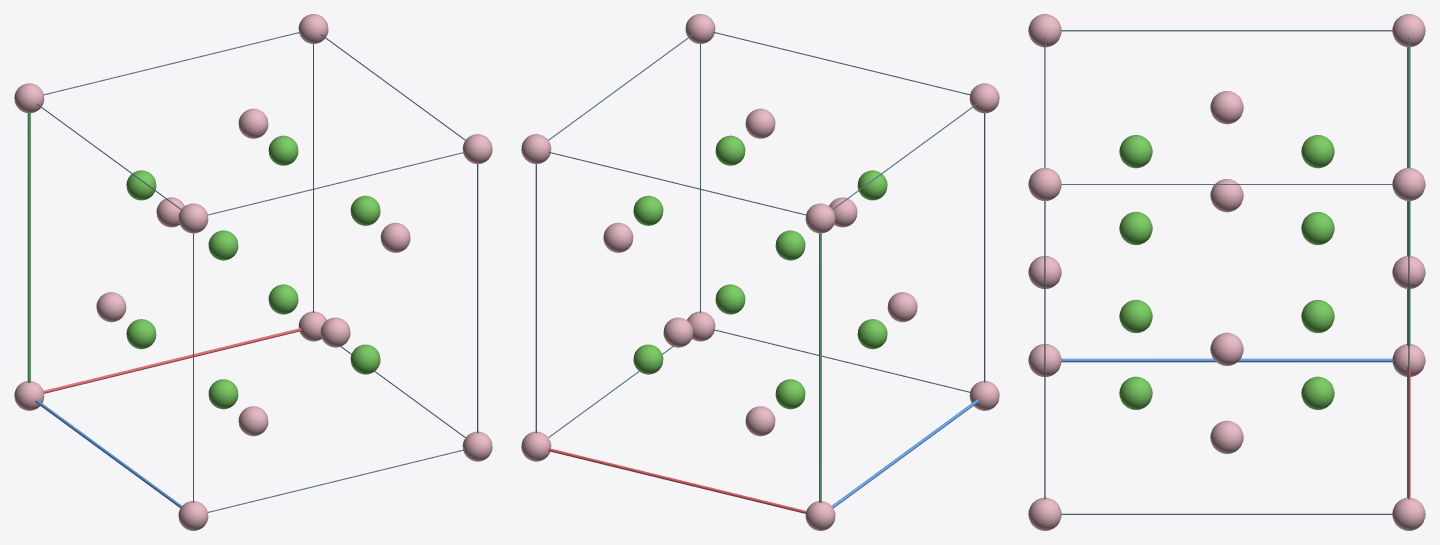
Rendered from chat-strontium-chloride.glb.
3 views of the same model, side by side, from view 1: azimuth 30°, elevation 25°; view 2: azimuth 150°, elevation 25°; view 3: azimuth 270°, elevation 25° (orthographic). The views are drawn at different scales.
Parts seen in each view (by area): view 1: Sr · Sr · 1 (×14), Ô mạng và các trục a, b, c, Cl · Cl · 1 (×8); view 2: Sr · Sr · 1 (×14), Ô mạng và các trục a, b, c, Cl · Cl · 1 (×8); view 3: Sr · Sr · 1 (×14), Cl · Cl · 1 (×8), Ô mạng và các trục a, b, c.
Boxes of the visible parts, x1,y1,x2,y2 form: Sr · Sr · 1 (×14): (14,14,492,530); Ô mạng và các trục a, b, c: (27,31,478,512); Cl · Cl · 1 (×8): (126,135,380,409); Sr · Sr · 1 (×14): (521,14,999,530); Ô mạng và các trục a, b, c: (535,31,985,513); Cl · Cl · 1 (×8): (633,135,887,409); Sr · Sr · 1 (×14): (1028,14,1425,530); Cl · Cl · 1 (×8): (1119,135,1334,409); Ô mạng và các trục a, b, c: (1044,30,1410,514).
Size of the model in its own units: 7.62 by 7.62 by 7.62.
